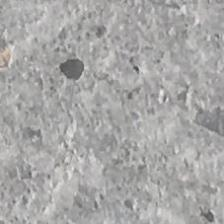Non_Crack: (90, 6, 175, 218)
